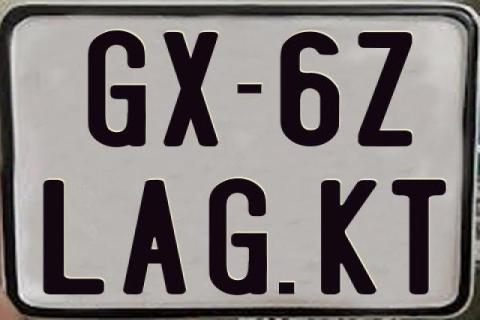0: (280, 31, 345, 147)
A: (123, 179, 190, 297)
G: (208, 179, 270, 299), (88, 30, 150, 146)
K: (320, 178, 378, 296)
L: (41, 180, 105, 296)
T: (389, 178, 443, 298)
X: (160, 31, 220, 149)
Z: (356, 31, 416, 151)
